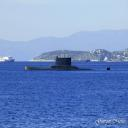submarine: (25, 48, 112, 72)
